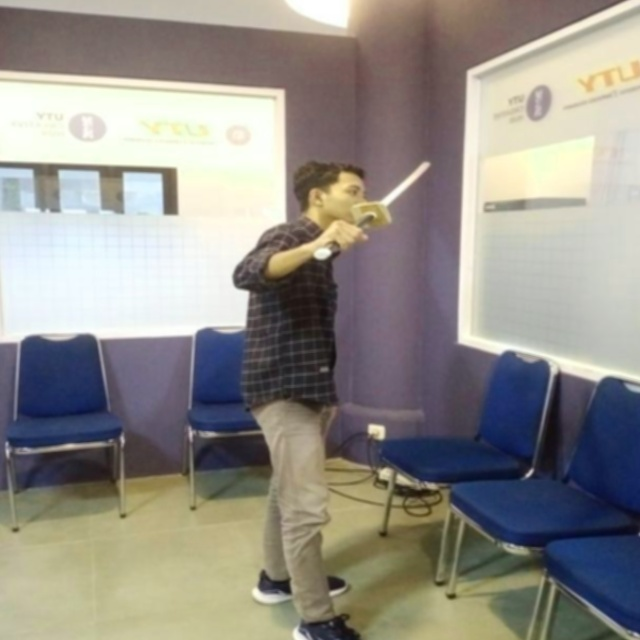Sharp-Object: (317, 157, 447, 270)
